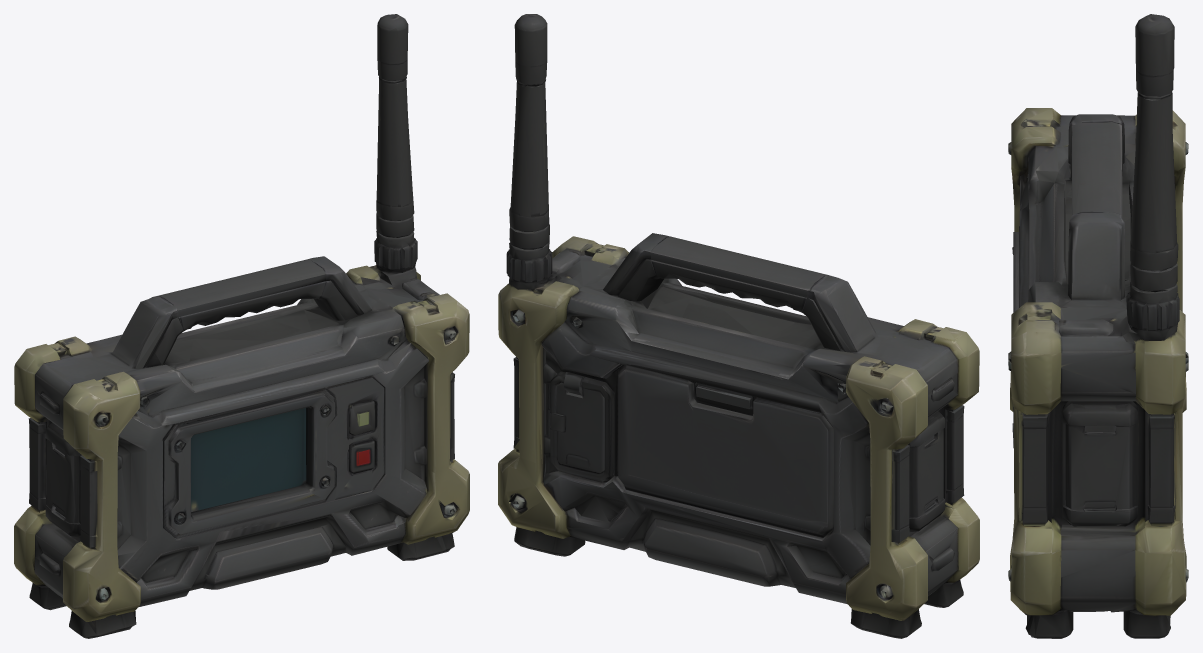
File: Asset_02_LOD1.fbx
3 views of the same model, side by side, from view 1: azimuth 30°, elevation 25°; view 2: azimuth 150°, elevation 25°; view 3: azimuth 270°, elevation 25° (orthographic). The views are drawn at different scales.
Visible parts, largest first — view 1: Asset_02_LOD1; view 2: Asset_02_LOD1; view 3: Asset_02_LOD1.
Boxes of the visible parts, x1,y1,x2,y2 form: Asset_02_LOD1: [14, 14, 469, 638]; Asset_02_LOD1: [498, 14, 979, 638]; Asset_02_LOD1: [1008, 14, 1188, 638].
Size of the model in its own units: 0.3486 by 0.42 by 0.1116.
Materials: 1 (1 with a texture image).
